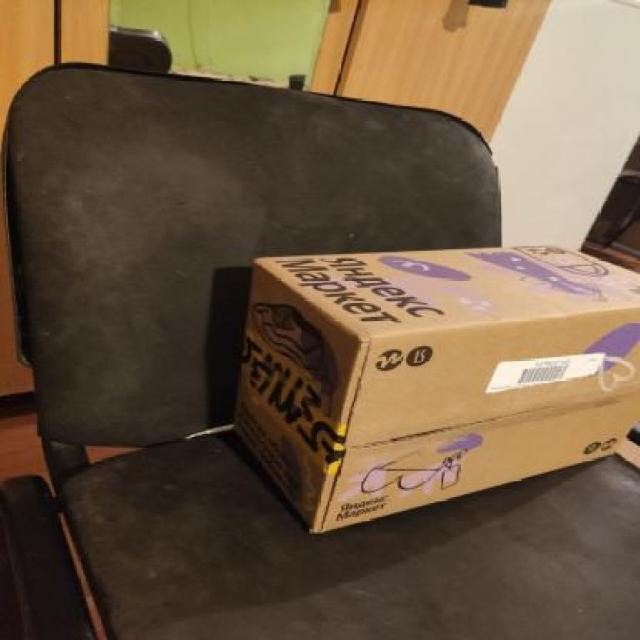box: (225, 245, 640, 537)
